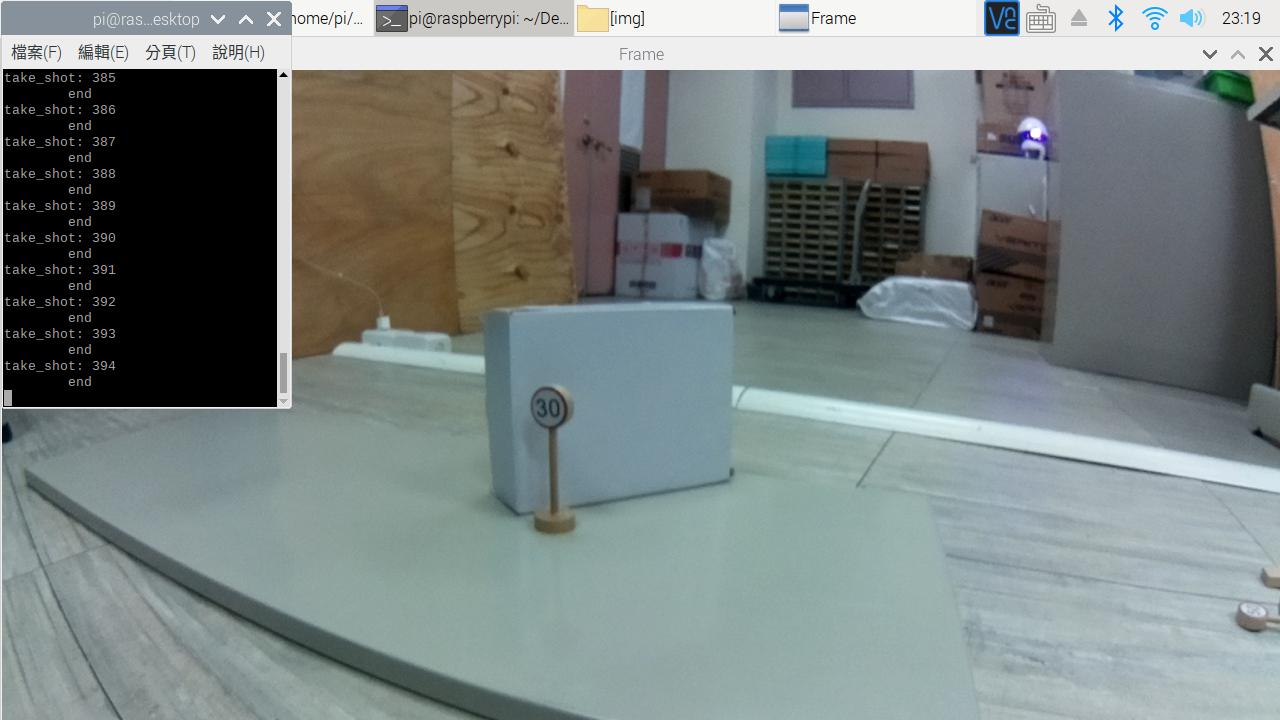Speed30: (518, 373, 587, 453)
